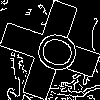O: (25, 25, 81, 77)
